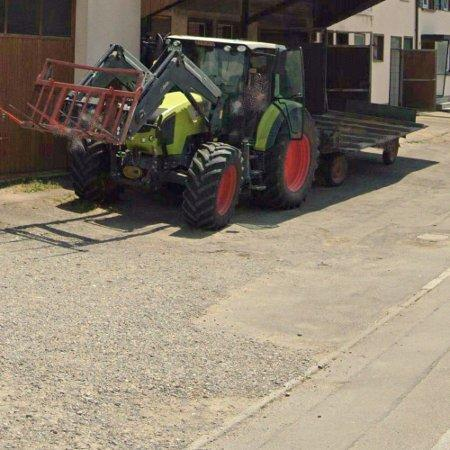tractors: (0, 113, 450, 450), (0, 35, 421, 229)
